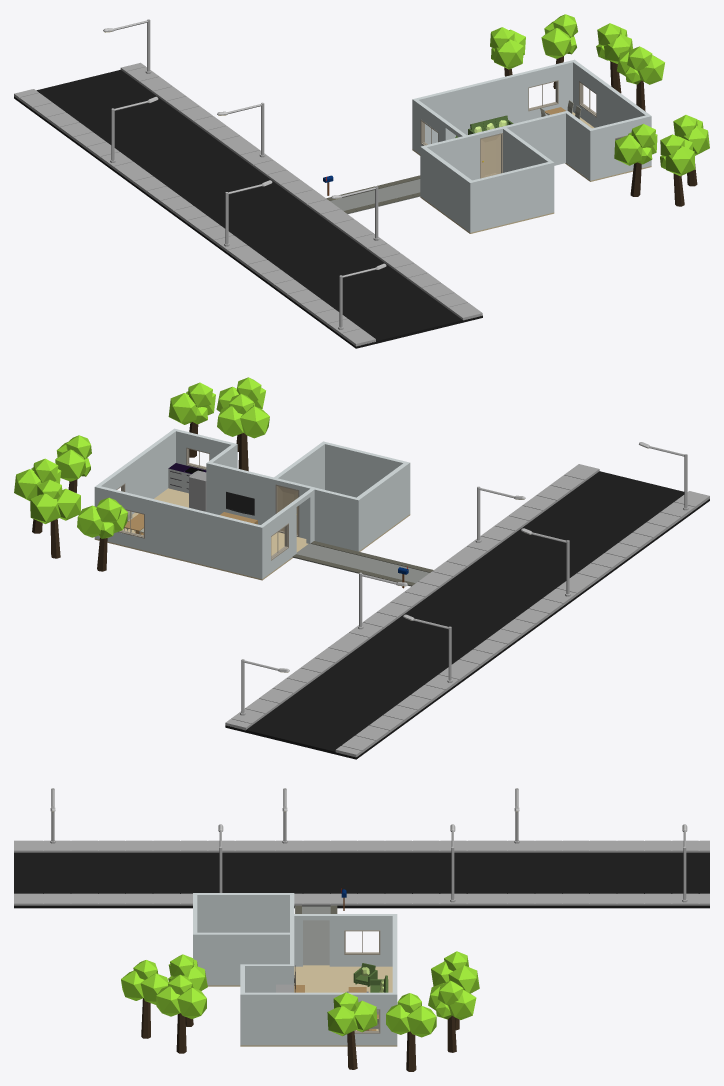
The model's file is room.fbx.
3 views of the same model, one above another, from view 1: azimuth 30°, elevation 25°; view 2: azimuth 150°, elevation 25°; view 3: azimuth 270°, elevation 25° (orthographic). The views are drawn at different scales.
Visible parts, largest first — view 1: walls, street.002, street, street.001, walkway, tree.004, tree.002, tree.005, tree.001, tree, tree.006, tree.003 (+1 smaller); view 2: walls, street, street.001, street.002, walkway, tree.001, tree.004, tree.006, tree.003, tree.002, floor, tree (+3 smaller); view 3: walls, street, street.002, street.001, floor, tree.003, tree, tree.002, tree.005, tree.001, walkway, tree.006 (+1 smaller).
Part boxes in pixels (left/top/right/bottom): walls: left=412, top=59, right=651, bottom=232; street.002: left=242, top=186, right=482, bottom=348; street: left=14, top=19, right=254, bottom=181; street.001: left=128, top=102, right=368, bottom=264; walkway: left=326, top=175, right=420, bottom=213; tree.004: left=614, top=124, right=657, bottom=196; tree.002: left=617, top=46, right=664, bottom=111; tree.005: left=660, top=134, right=695, bottom=206; tree.001: left=541, top=14, right=577, bottom=88; tree: left=596, top=23, right=632, bottom=93; tree.006: left=490, top=27, right=525, bottom=76; tree.003: left=673, top=115, right=709, bottom=186; walls: left=94, top=428, right=410, bottom=579; street: left=225, top=614, right=474, bottom=759; street.001: left=343, top=528, right=591, bottom=672; street.002: left=461, top=442, right=709, bottom=586; walkway: left=292, top=541, right=433, bottom=586; tree.001: left=30, top=479, right=80, bottom=558; tree.004: left=217, top=394, right=269, bottom=471; tree.006: left=77, top=497, right=127, bottom=571; tree.003: left=168, top=382, right=215, bottom=457; tree.002: left=55, top=435, right=91, bottom=492; floor: left=94, top=488, right=410, bottom=580; tree: left=14, top=458, right=61, bottom=533; walls: left=193, top=893, right=397, bottom=1045; street: left=478, top=788, right=709, bottom=908; street.002: left=14, top=788, right=245, bottom=908; street.001: left=246, top=788, right=477, bottom=908; floor: left=207, top=965, right=397, bottom=1046; tree.003: left=156, top=974, right=206, bottom=1053; tree: left=386, top=993, right=436, bottom=1071; tree.002: left=327, top=992, right=377, bottom=1069; tree.005: left=121, top=960, right=168, bottom=1038; tree.001: left=428, top=980, right=476, bottom=1052; walkway: left=295, top=905, right=337, bottom=965; tree.006: left=431, top=951, right=479, bottom=1030.
Size of what is drawn, in the model's own units: 22847 by 3436 by 28741.
